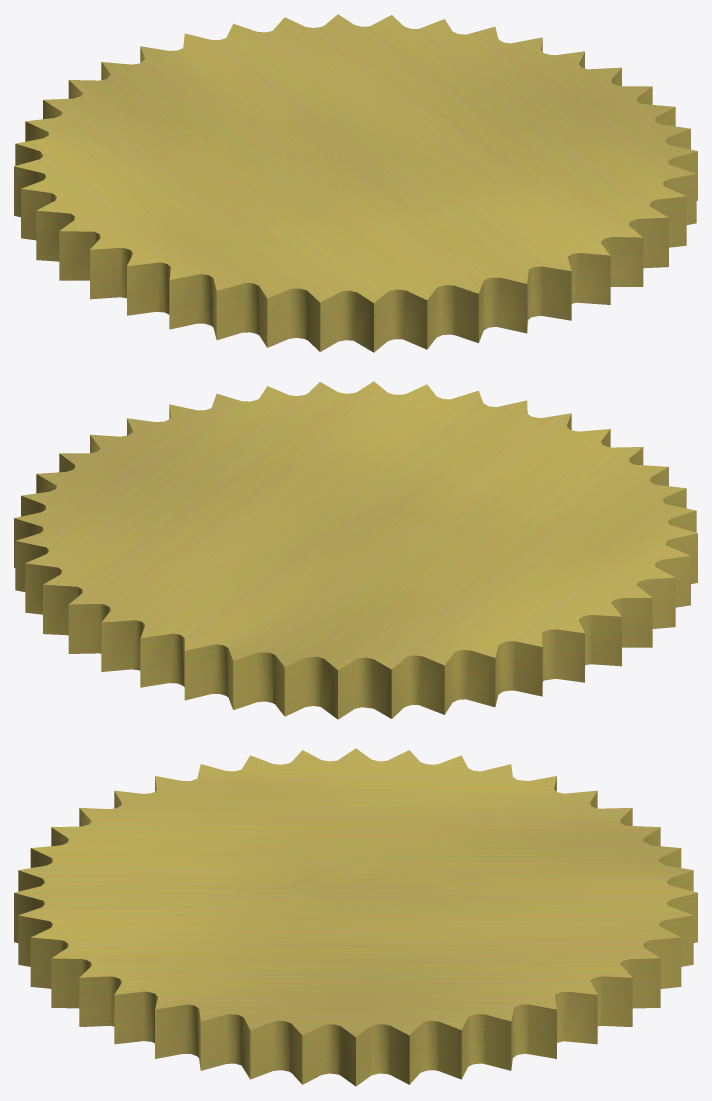
Rendered from Sprocket6Spoke040.fbx.
3 views of the same model, one above another, from view 1: azimuth 30°, elevation 25°; view 2: azimuth 150°, elevation 25°; view 3: azimuth 270°, elevation 25° (orthographic).
Parts seen in each view (by area): view 1: Sprocket6Spoke040; view 2: Sprocket6Spoke040; view 3: Sprocket6Spoke040.
Boxes of the visible parts, x1,y1,x2,y2 form: Sprocket6Spoke040: (14,14,697,352); Sprocket6Spoke040: (14,381,697,719); Sprocket6Spoke040: (14,748,697,1086).
Bounding box in the file's own units: 247 × 19.69 × 247.
